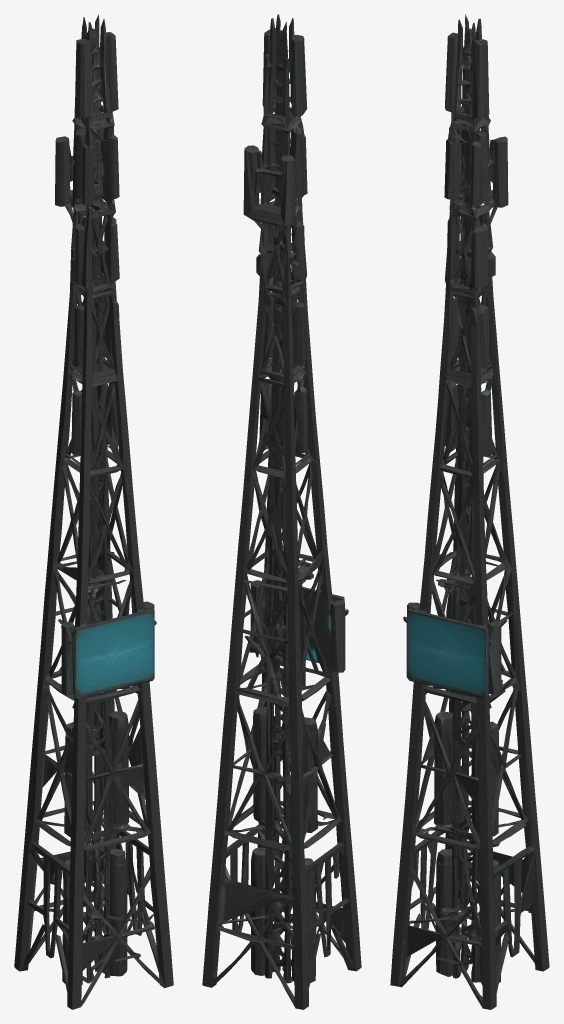
Rendered from neon-pylon.glb.
3 renders of one model, left to right at view 1: azimuth 30°, elevation 25°; view 2: azimuth 150°, elevation 25°; view 3: azimuth 330°, elevation 25°, orthographic.
Parts seen in each view (by area): view 1: mesh_node; view 2: mesh_node; view 3: mesh_node.
Part boxes in pixels (x1,y1,x2,y2): mesh_node: (14, 14, 173, 1009); mesh_node: (202, 14, 361, 1009); mesh_node: (390, 14, 549, 1009).
Bounding box in the file's own units: 0.2092 × 1.89 × 0.2077.
1 material, 1 textured.
